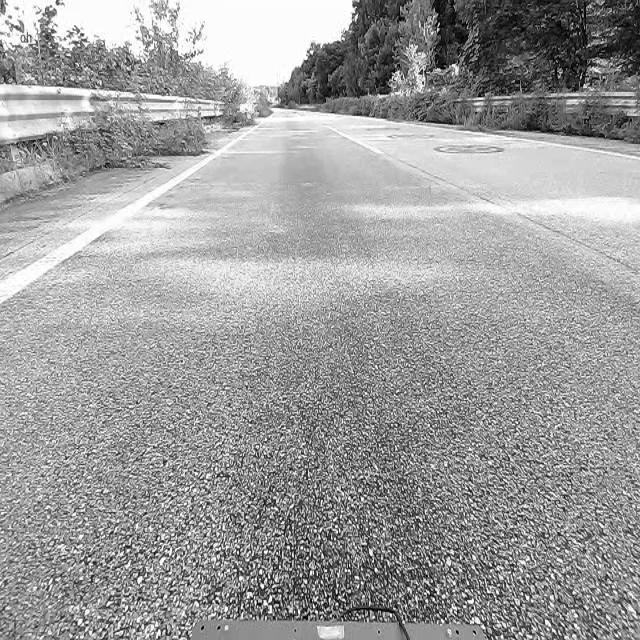Lane: (0, 135, 243, 308), (0, 140, 238, 305)
